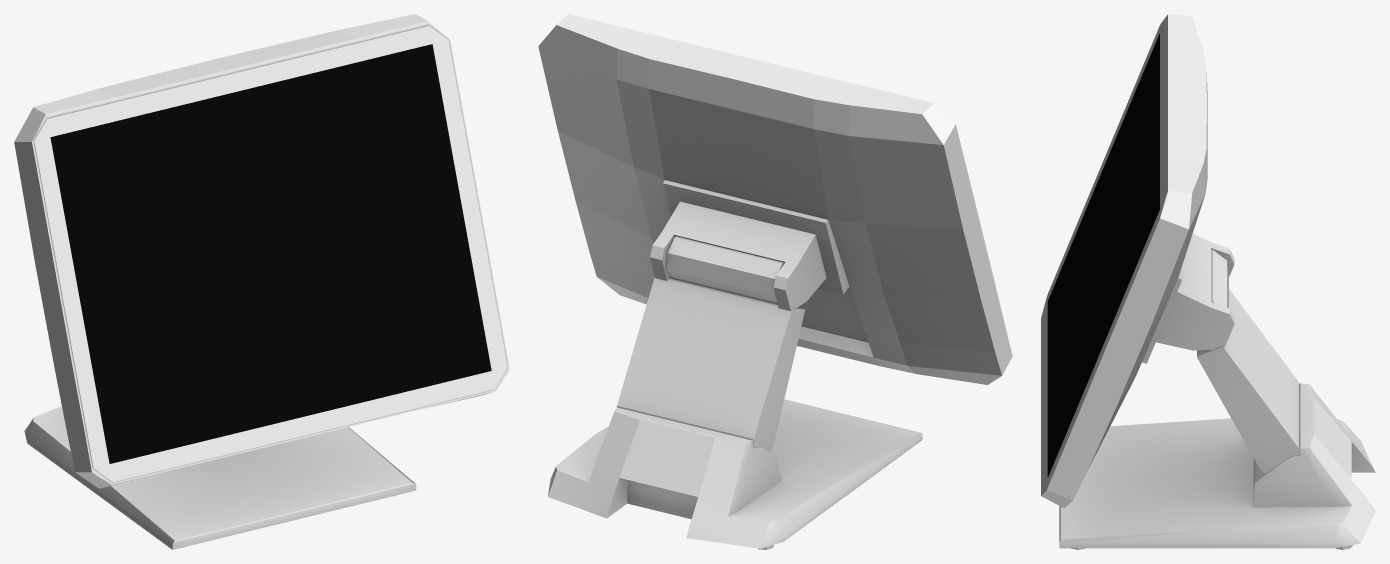
File: UPOS_M15.fbx
3 renders of one model, left to right at view 1: azimuth 30°, elevation 25°; view 2: azimuth 150°, elevation 25°; view 3: azimuth 270°, elevation 25°, orthographic. The views are drawn at different scales.
Parts seen in each view (by area): view 1: A, C, D, B; view 2: B, D, G, E; view 3: D, A, B, G, E, C.
Part boxes in pixels (x1,y1,x2,y2): A: (50,44,491,463); C: (34,26,507,482); D: (24,406,416,549); B: (14,14,509,488); B: (538,14,1012,384); D: (548,399,922,549); G: (616,236,805,452); E: (650,180,849,310); D: (1059,383,1375,549); A: (1047,33,1159,477); B: (1041,14,1207,508); G: (1197,250,1300,473); E: (1142,234,1234,363); C: (1041,18,1166,493).
Bounding box in the file's own units: 34.81 × 32.66 × 25.13.
